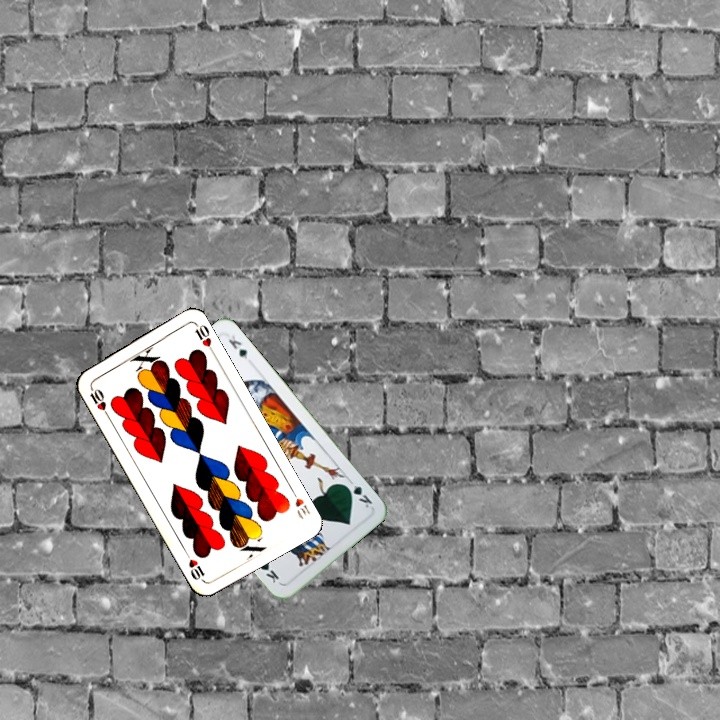GK: (341, 480, 375, 510)
H10: (287, 484, 313, 522), (86, 382, 111, 419)
